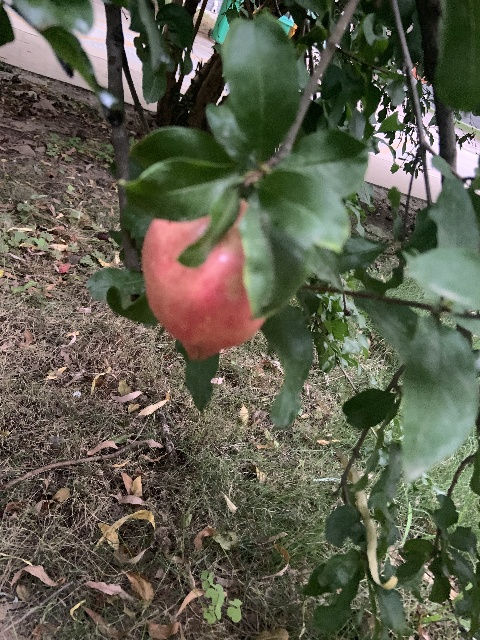ripe: (140, 196, 266, 360)
